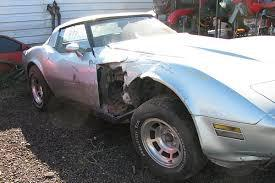fender-dent: (97, 61, 191, 112)
